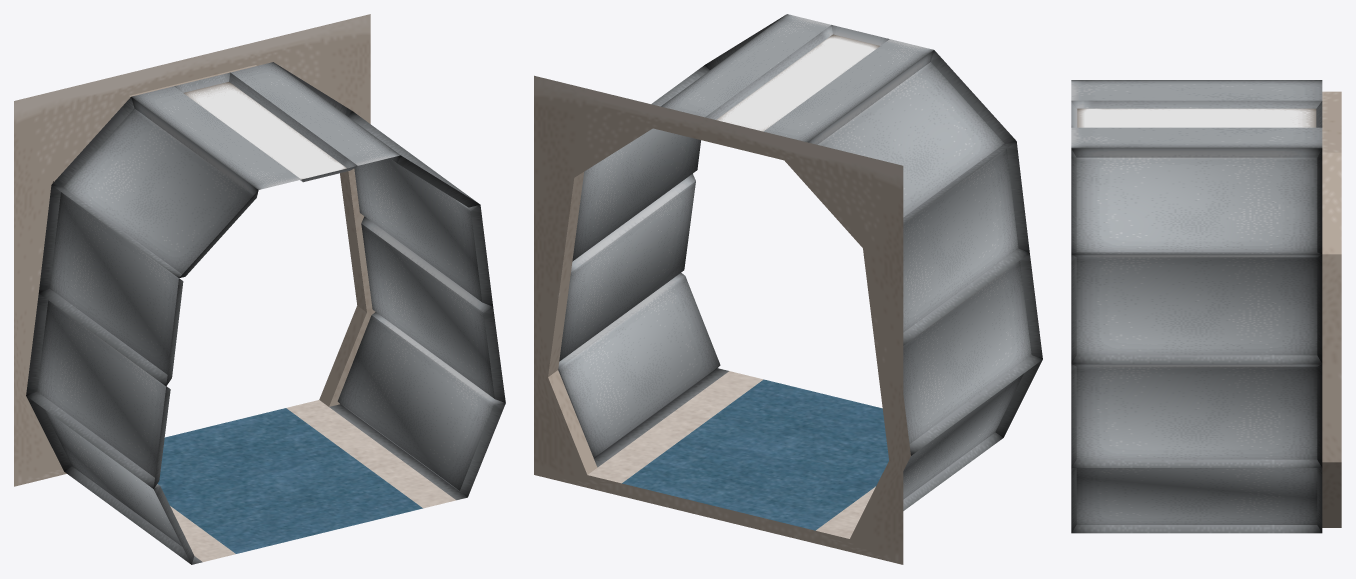
The model's file is galaxyCorridor.glb.
3 renders of one model, left to right at view 1: azimuth 30°, elevation 25°; view 2: azimuth 150°, elevation 25°; view 3: azimuth 270°, elevation 25°, orthographic. The views are drawn at different scales.
Parts seen in each view (by area): view 1: Plane; view 2: Plane; view 3: Plane.
Part boxes in pixels (left/top/right/bottom): Plane: left=14, top=14, right=505, bottom=564; Plane: left=534, top=14, right=1042, bottom=564; Plane: left=1071, top=80, right=1341, bottom=533.
Bounding box in the file's own units: 3 × 3.1 × 2.
Materials: 1 (1 with a texture image).
